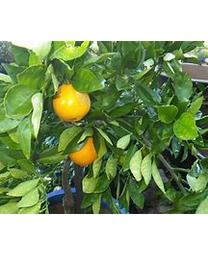lemon: (53, 85, 90, 121), (70, 133, 99, 164)
